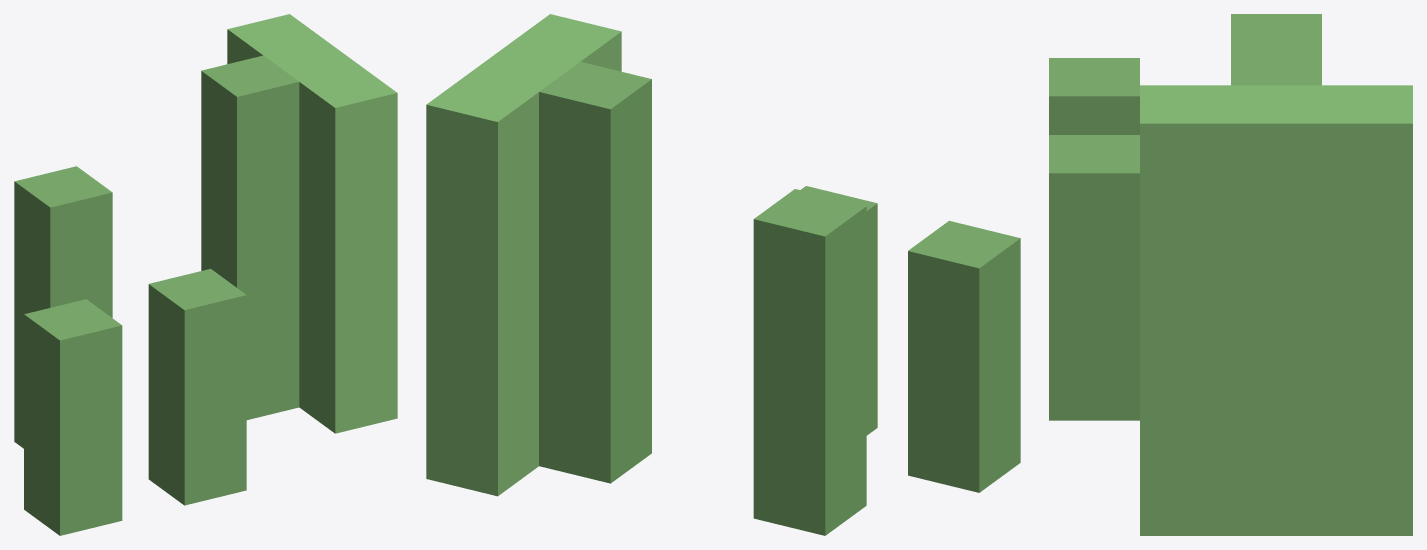
Rendered from trebol_07.glb.
3 views of the same model, side by side, from view 1: azimuth 30°, elevation 25°; view 2: azimuth 150°, elevation 25°; view 3: azimuth 270°, elevation 25° (orthographic). The views are drawn at different scales.
Visible parts, largest first — view 1: trebol_07; view 2: trebol_07; view 3: trebol_07.
Boxes of the visible parts, x1,y1,x2,y2 form: trebol_07: (14,14,397,535); trebol_07: (426,14,1020,535); trebol_07: (1049,14,1412,535).
Bounding box in the file's own units: 0.6 × 0.5 × 0.4.
